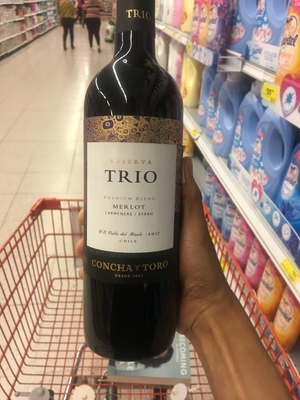trio merlot: (76, 12, 198, 367)
